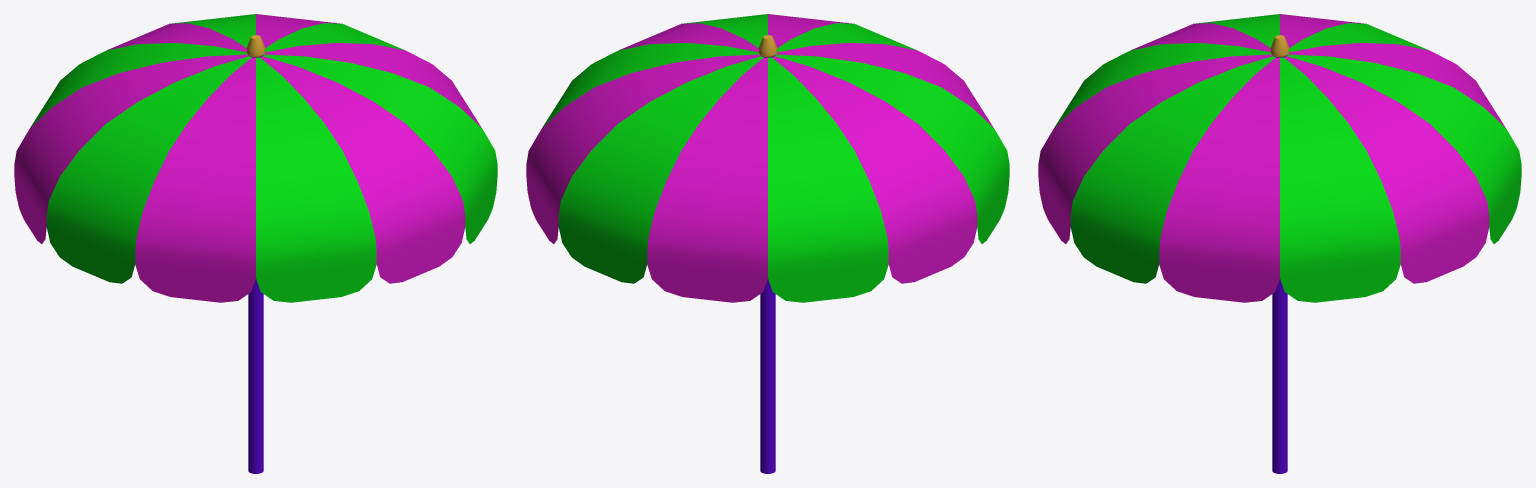
The model's file is Umbrella.fbx.
3 views of the same model, side by side, from view 1: azimuth 30°, elevation 25°; view 2: azimuth 150°, elevation 25°; view 3: azimuth 270°, elevation 25° (orthographic).
Visible parts, largest first — view 1: Cylinder; view 2: Cylinder; view 3: Cylinder.
Boxes of the visible parts, <box> form: Cylinder: <box>14,14,497,473</box>; Cylinder: <box>526,14,1009,473</box>; Cylinder: <box>1038,14,1521,473</box>.
Bounding box in the file's own units: 209 × 207 × 209.
